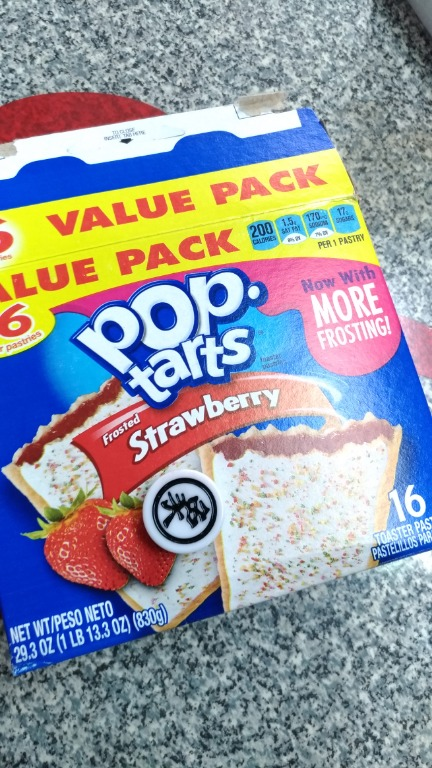b-elephant: (129, 456, 235, 575)
